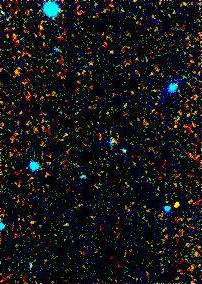star: (163, 190, 193, 220)
